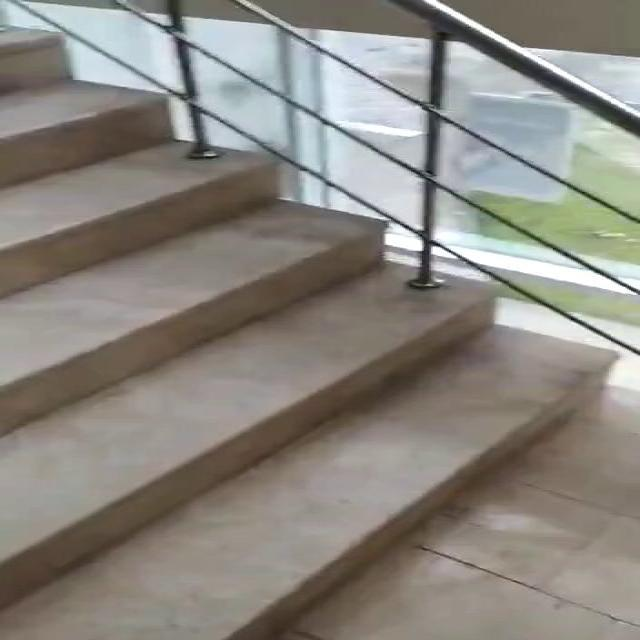stair: (1, 8, 636, 640)
